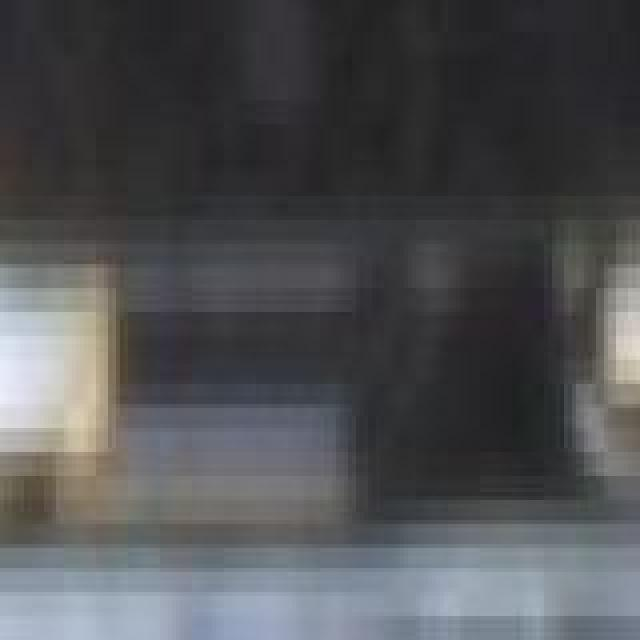diode: (0, 0, 640, 536)
